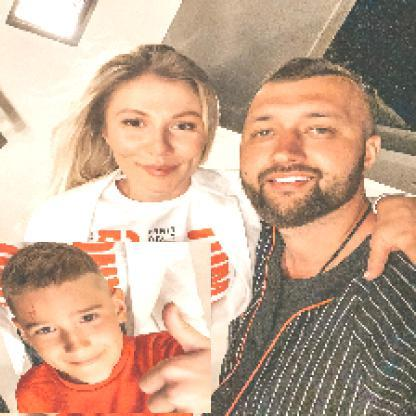child: (1, 243, 213, 415)
